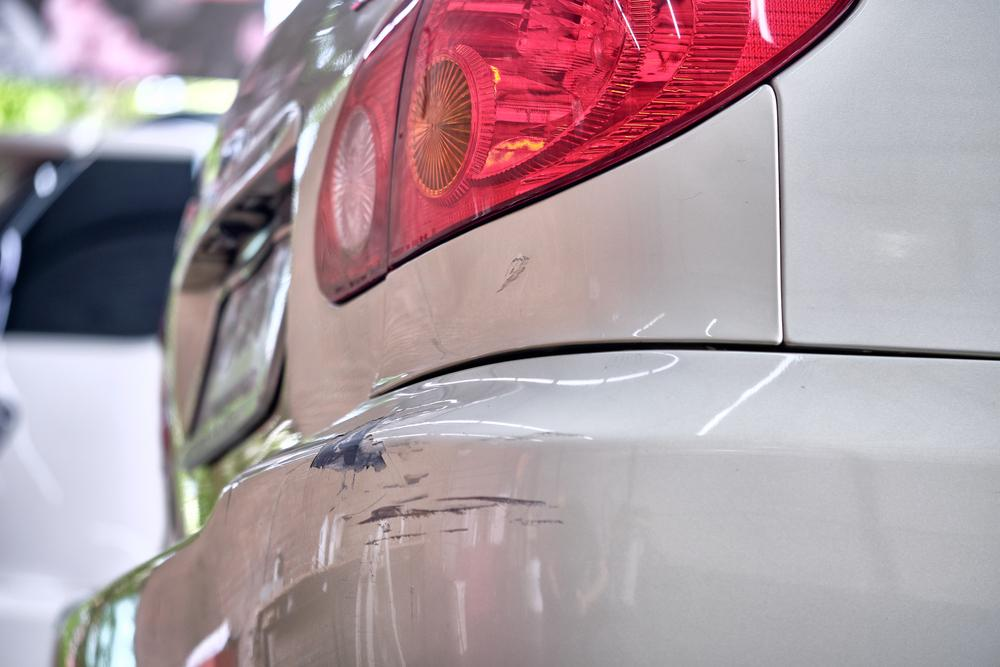scratch: (299, 408, 576, 555)
